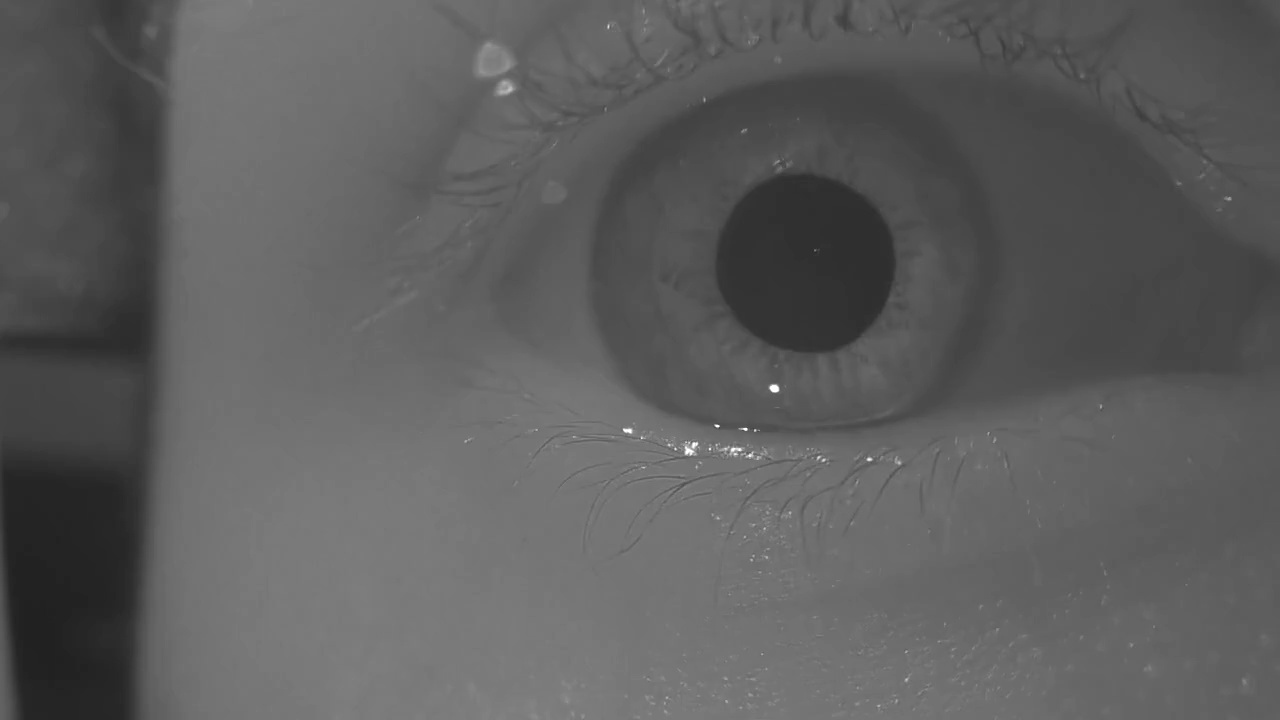pupil: (716, 175, 896, 354)
